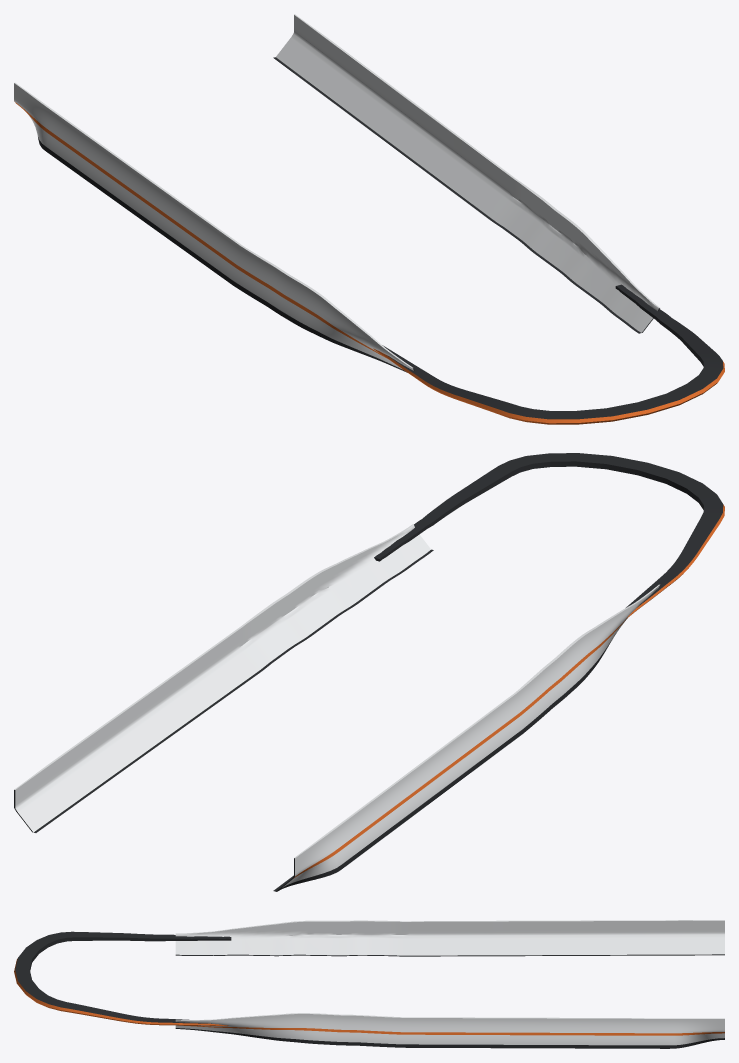
File: nomad_armor_light.fbx
3 views of the same model, one above another, from view 1: azimuth 30°, elevation 25°; view 2: azimuth 150°, elevation 25°; view 3: azimuth 270°, elevation 25° (orthographic). The views are drawn at different scales.
Parts seen in each view (by area): view 1: Armor_Light; view 2: Armor_Light; view 3: Armor_Light.
Part boxes in pixels (x1,y1,x2,y2): Armor_Light: (14,14,724,424); Armor_Light: (14,453,724,891); Armor_Light: (14,920,724,1048).
Size of the model in its own units: 156 by 20.68 by 450.
